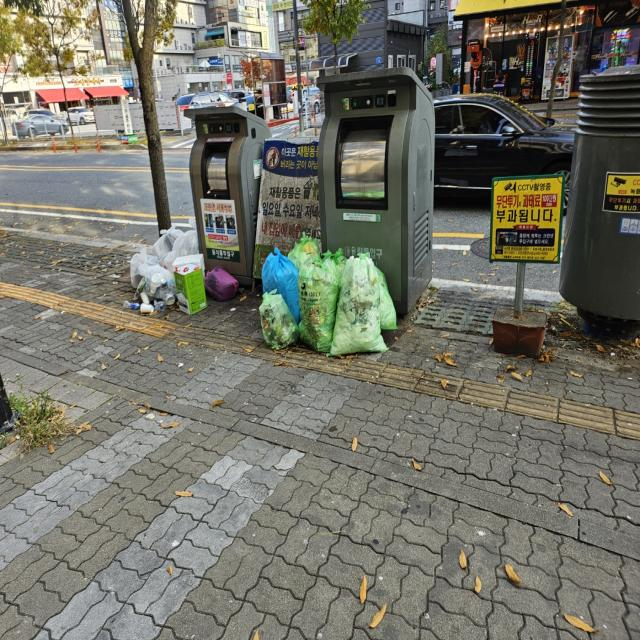CleanNet: (314, 61, 442, 302), (186, 98, 261, 297)
General Waste: (144, 213, 396, 354), (261, 228, 397, 362), (125, 193, 236, 321)
